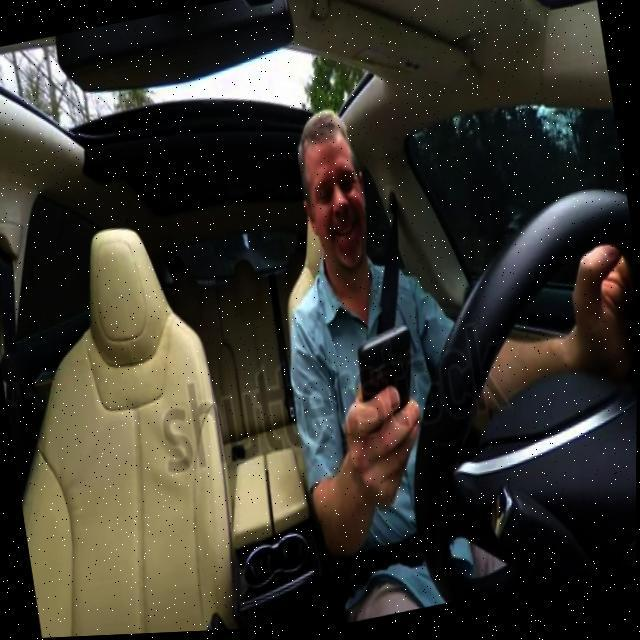PhoneCall: (352, 326, 423, 427)
